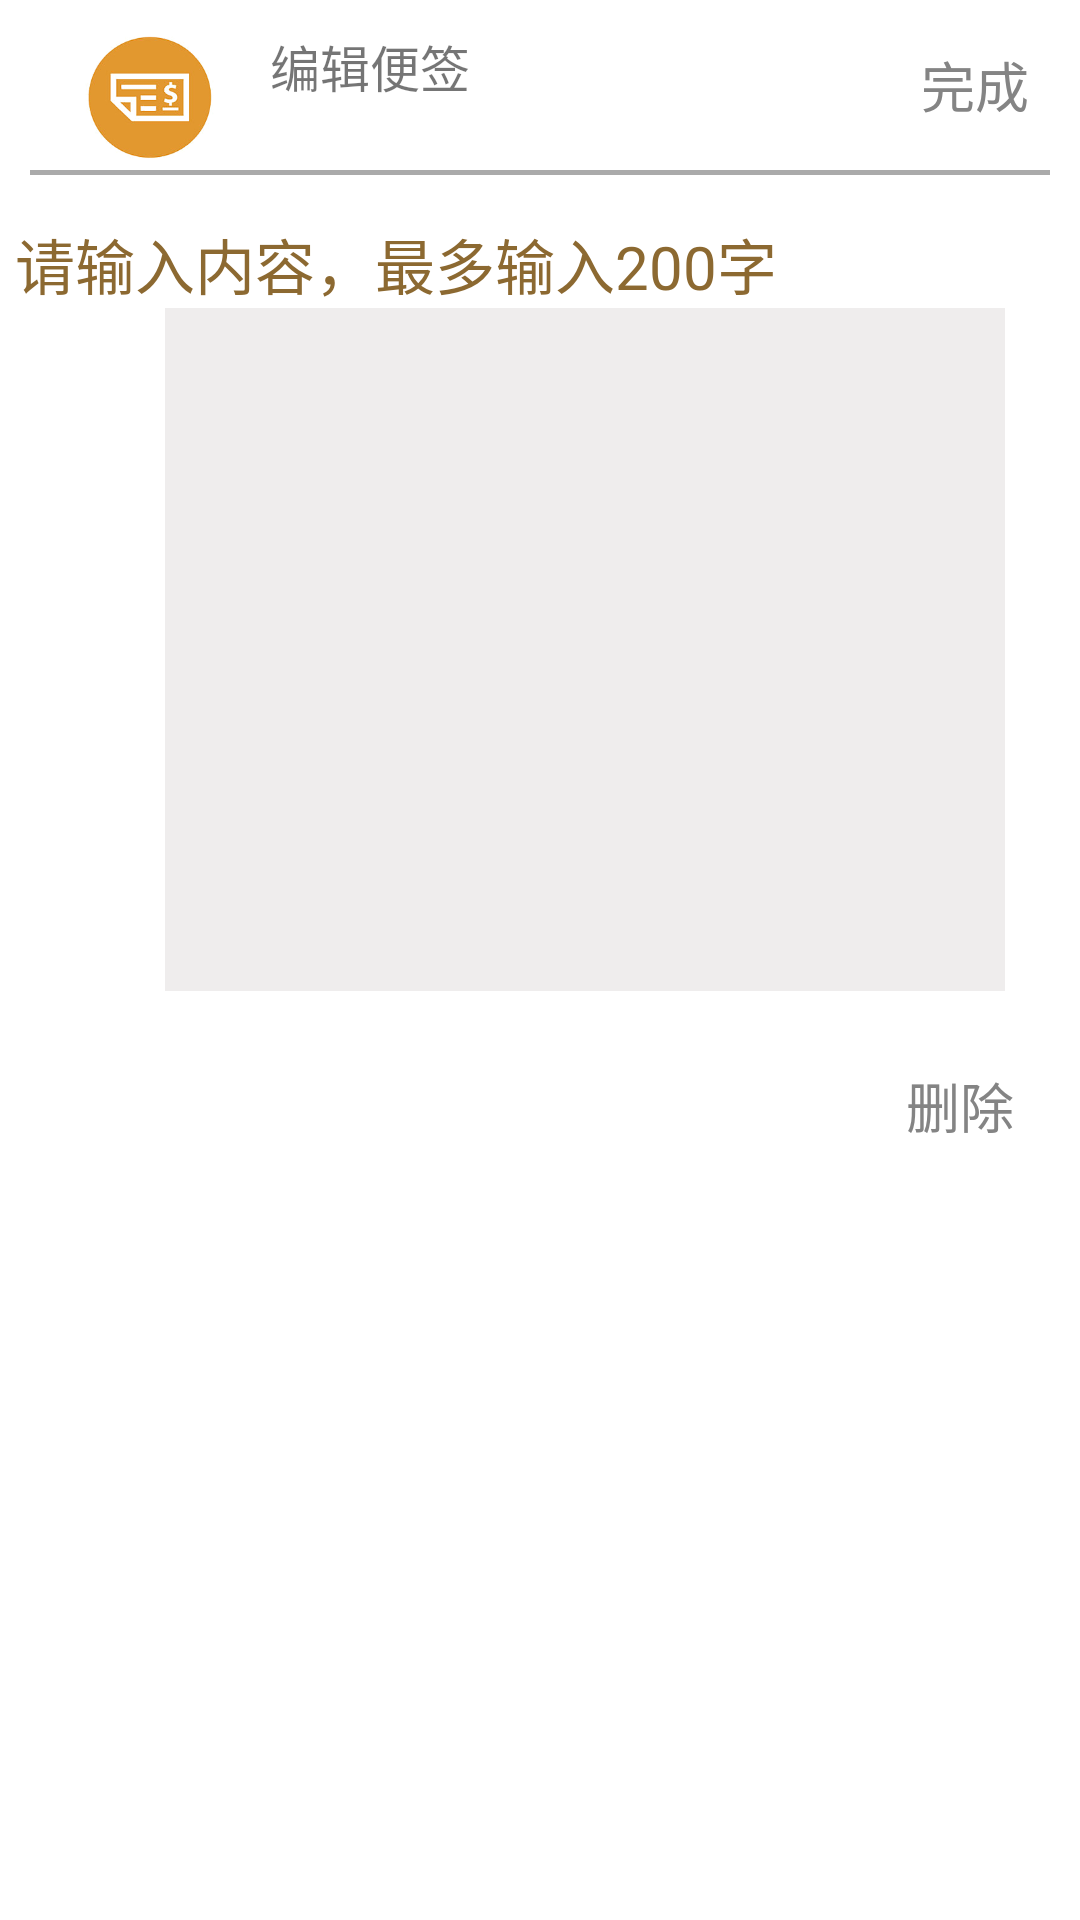

Icon bounding boxes for this 1080*1920 phone screenshot, format [x1, y1, x2, y2]:
shouzhibianqian: [88, 37, 212, 158]
